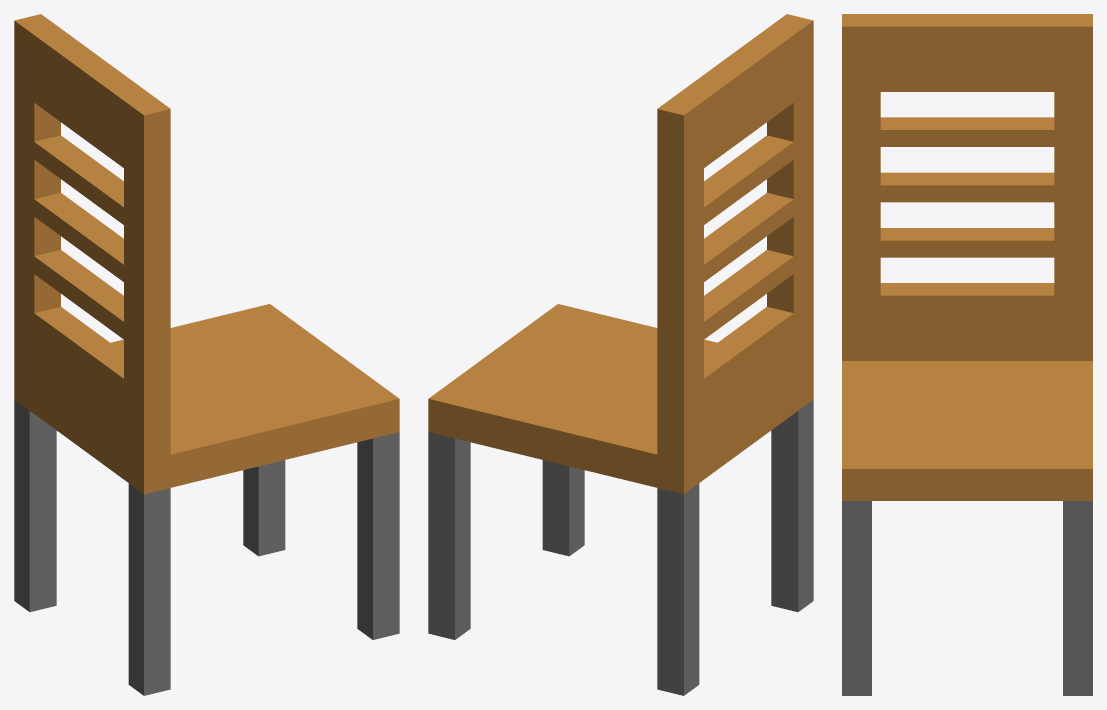
Rendered from Chair_Wood.fbx.
3 renders of one model, left to right at view 1: azimuth 30°, elevation 25°; view 2: azimuth 150°, elevation 25°; view 3: azimuth 270°, elevation 25°, orthographic. The views are drawn at different scales.
Visible parts, largest first — view 1: Chair_Wood; view 2: Chair_Wood; view 3: Chair_Wood.
Part boxes in pixels (x1,y1,x2,y2): Chair_Wood: [14, 14, 399, 695]; Chair_Wood: [428, 14, 813, 695]; Chair_Wood: [842, 14, 1092, 695].
Size of the model in its own units: 555 by 1205 by 488.
